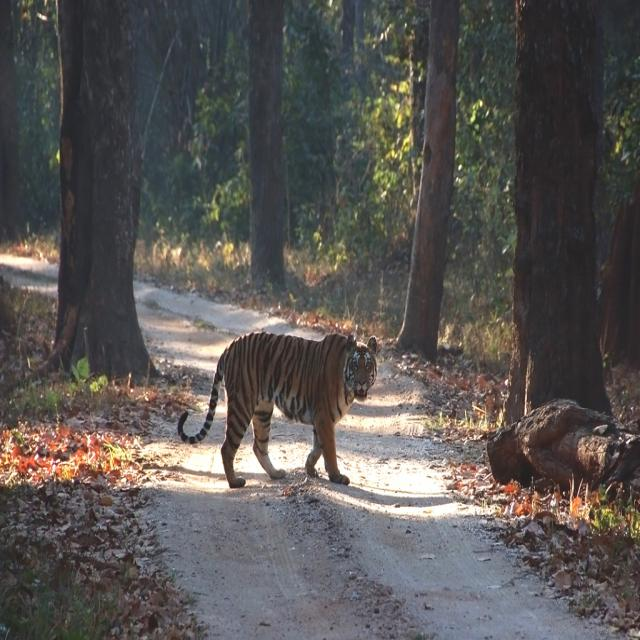Tiger: (175, 328, 378, 488)
